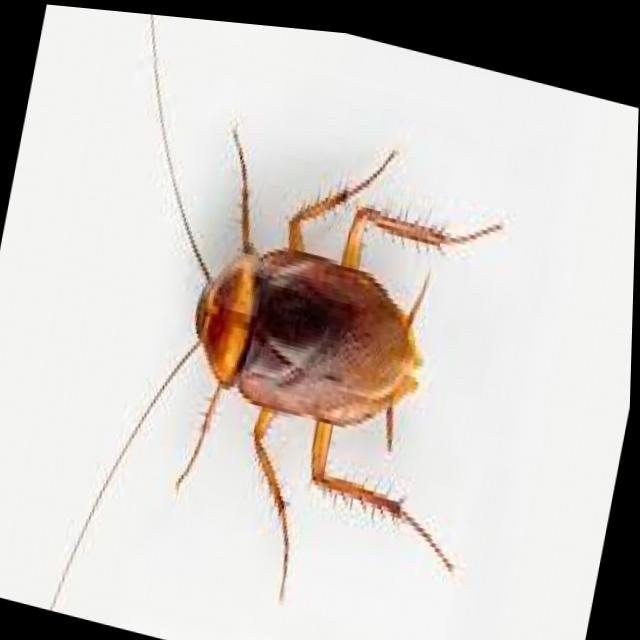Cockroach: (38, 60, 545, 640)
